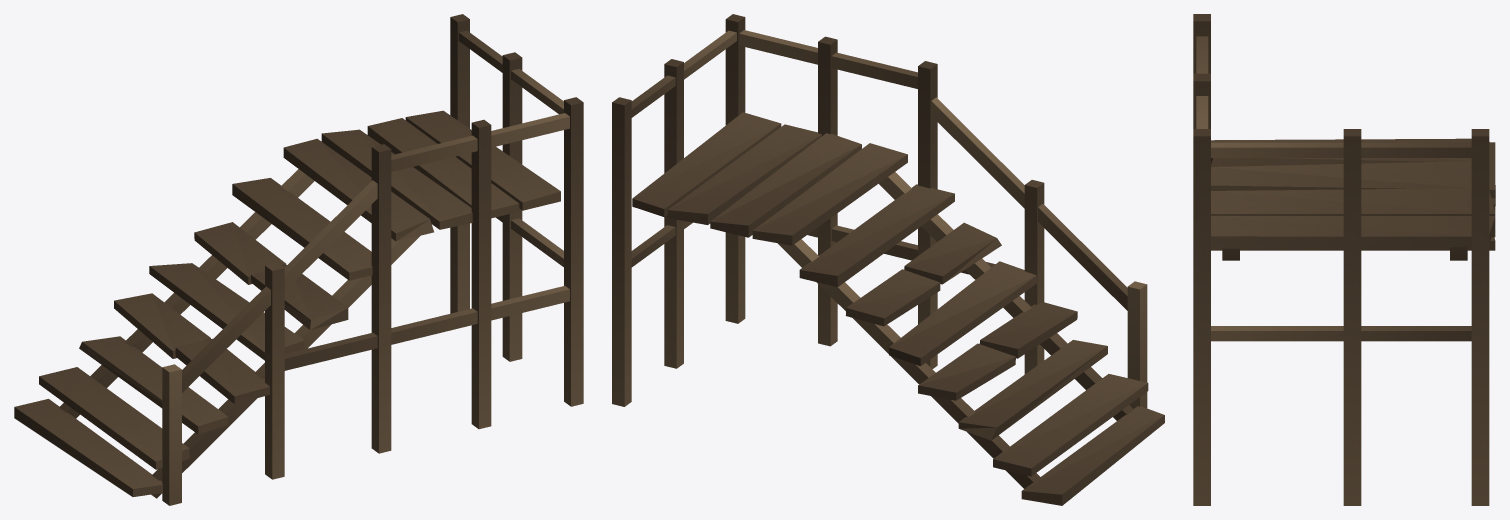
File: ZLP_Build_D_6.FBX
3 views of the same model, side by side, from view 1: azimuth 30°, elevation 25°; view 2: azimuth 150°, elevation 25°; view 3: azimuth 270°, elevation 25° (orthographic). The views are drawn at different scales.
Visible parts, largest first — view 1: ZLP_Build_D_6; view 2: ZLP_Build_D_6; view 3: ZLP_Build_D_6.
Boxes of the visible parts, <box> form: ZLP_Build_D_6: <box>14,14,583,505</box>; ZLP_Build_D_6: <box>612,14,1164,505</box>; ZLP_Build_D_6: <box>1193,14,1495,505</box>.
Bounding box in the file's own units: 370 × 239 × 176.
